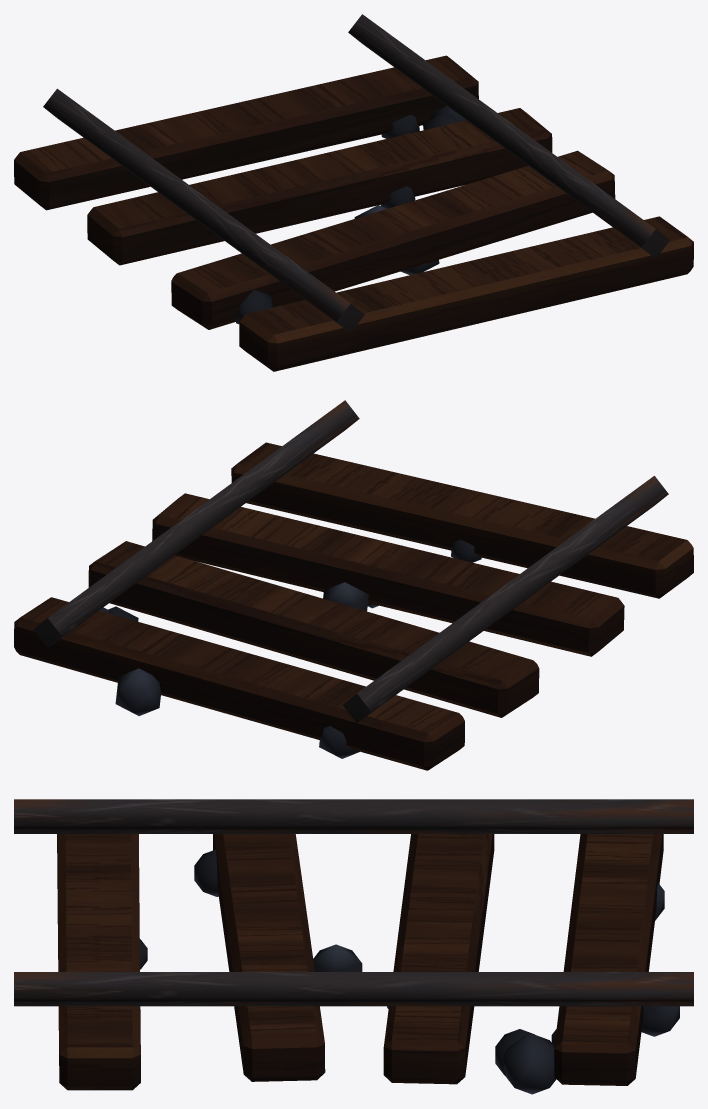
File: cave_rail.glb
The picture shows the model from 3 angles, top to bottom: view 1: azimuth 30°, elevation 25°; view 2: azimuth 150°, elevation 25°; view 3: azimuth 270°, elevation 25°; orthographic projection. The views are drawn at different scales.
Parts seen in each view (by area): view 1: cave_rail; view 2: cave_rail; view 3: cave_rail.
Part boxes in pixels (x1,y1,x2,y2): cave_rail: (14,14,693,371); cave_rail: (14,400,693,770); cave_rail: (14,799,693,1094).
Size of the model in its own units: 0.845 by 0.1774 by 1.
3 materials, 3 textured.
